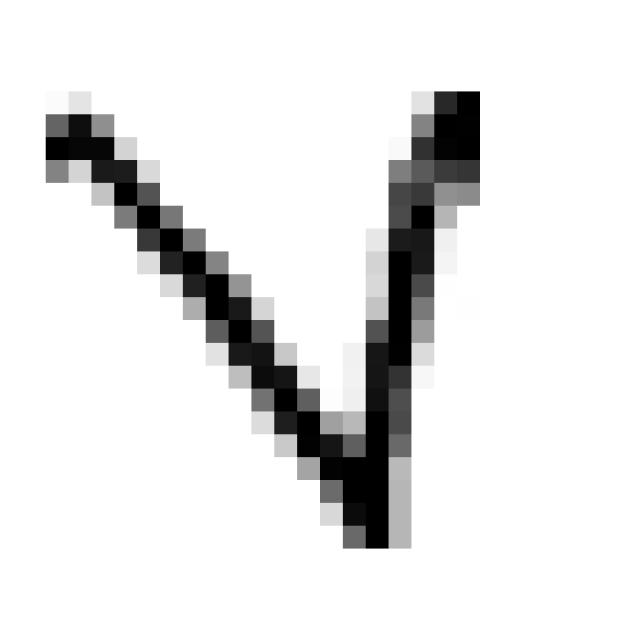7 -seven-: (30, 66, 505, 585)
